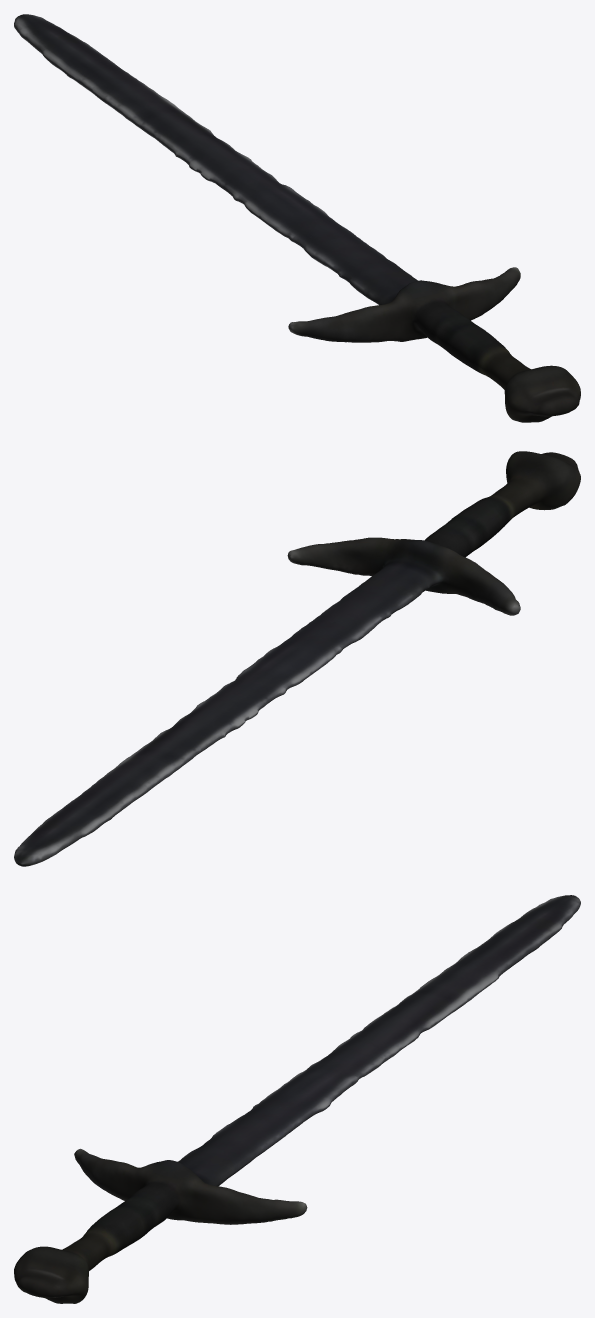
Rendered from mech.glb.
3 views of the same model, one above another, from view 1: azimuth 30°, elevation 25°; view 2: azimuth 150°, elevation 25°; view 3: azimuth 330°, elevation 25° (orthographic).
Parts seen in each view (by area): view 1: world; view 2: world; view 3: world.
Part boxes in pixels (bbox=[...]): world: bbox=[14, 14, 580, 422]; world: bbox=[14, 451, 580, 866]; world: bbox=[14, 895, 580, 1303].
Size of the model in its own units: 0.1461 by 0.0328 by 0.5968.
1 material, 1 textured.
